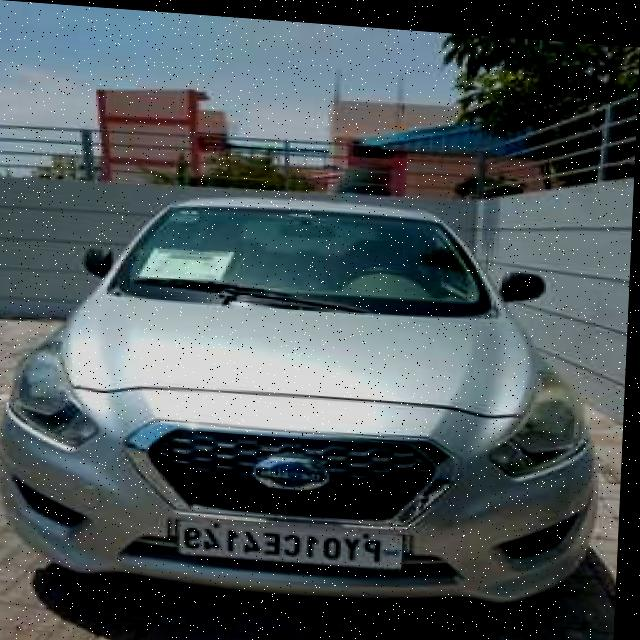plate: (179, 513, 408, 565)
